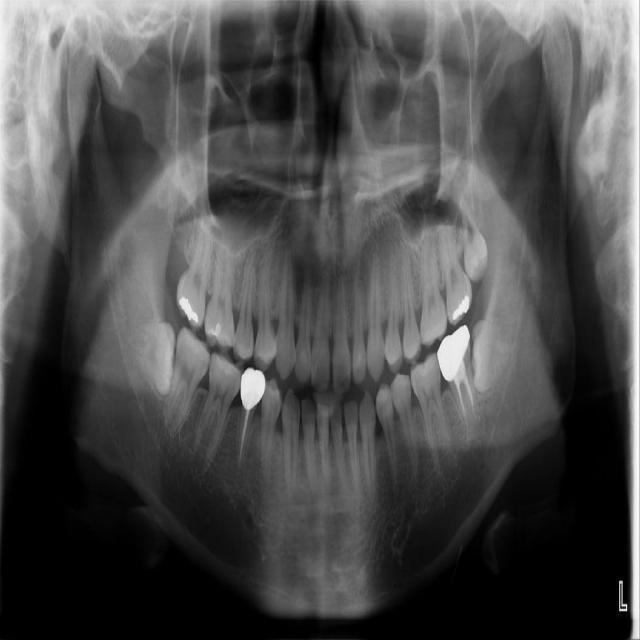Crown: (436, 324, 469, 383), (241, 367, 266, 411)
Filling: (446, 275, 473, 323), (177, 296, 199, 326), (205, 322, 228, 346)
Root Canal Treatment: (238, 411, 249, 459), (458, 389, 467, 419), (466, 382, 471, 414)
impacted tooth: (118, 326, 173, 393), (471, 311, 518, 389), (461, 191, 486, 278)
